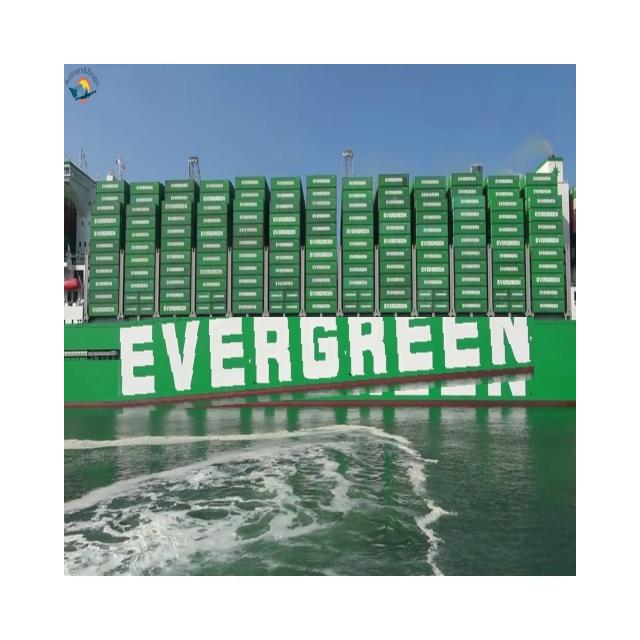OCR: (111, 317, 534, 414)
